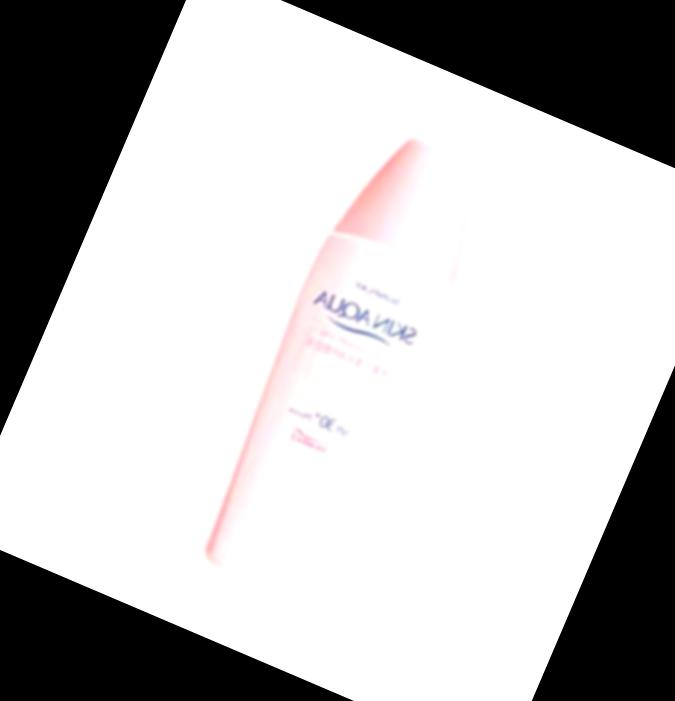cosmetic: (187, 116, 502, 613)
